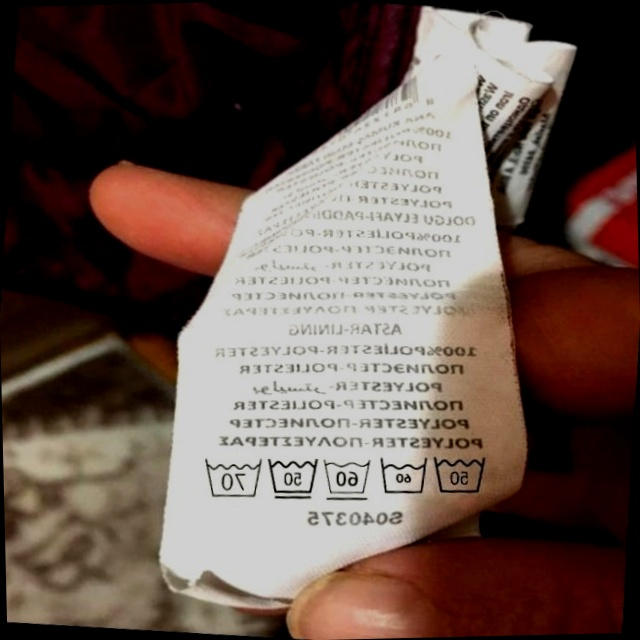50C: (427, 445, 494, 502), (261, 451, 322, 506)
60C: (316, 451, 374, 505), (373, 450, 431, 502)
70C: (195, 452, 264, 503)
